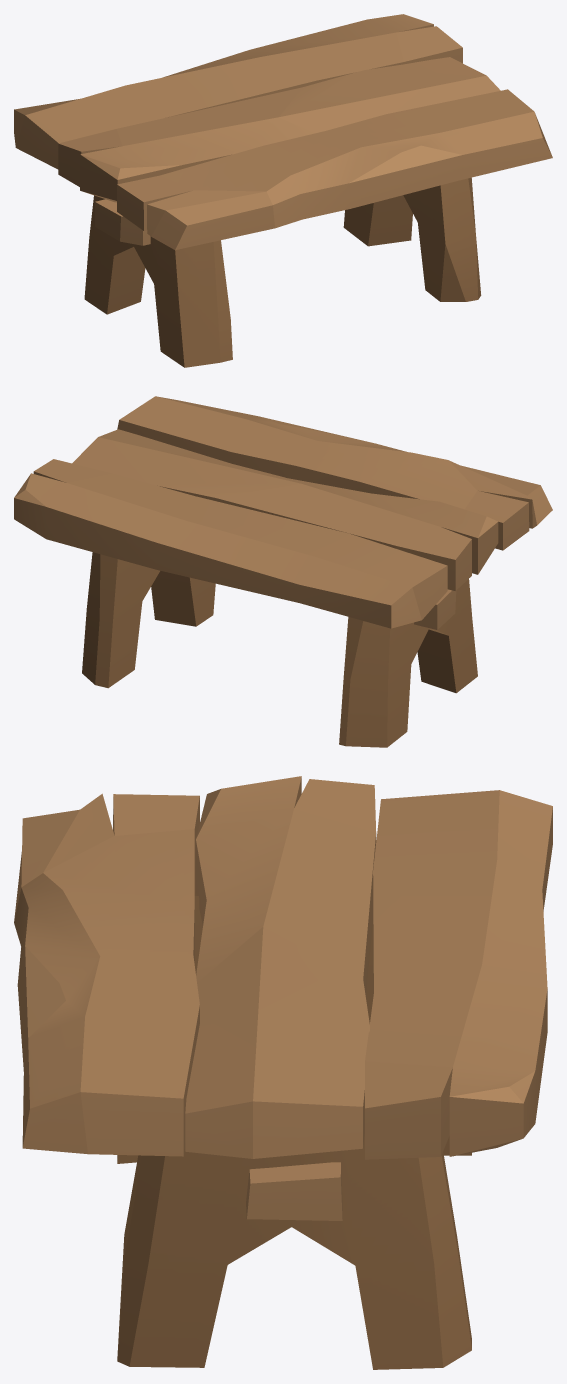
File: Bench_A.fbx
3 renders of one model, top to bottom at view 1: azimuth 30°, elevation 25°; view 2: azimuth 150°, elevation 25°; view 3: azimuth 270°, elevation 25°, orthographic. The views are drawn at different scales.
Parts seen in each view (by area): view 1: Bench_A; view 2: Bench_A; view 3: Bench_A.
Boxes of the visible parts, x1,y1,x2,y2 form: Bench_A: [14, 14, 552, 367]; Bench_A: [14, 396, 552, 747]; Bench_A: [14, 776, 552, 1369].
Size of the model in its own units: 109 by 48.42 by 76.27.
